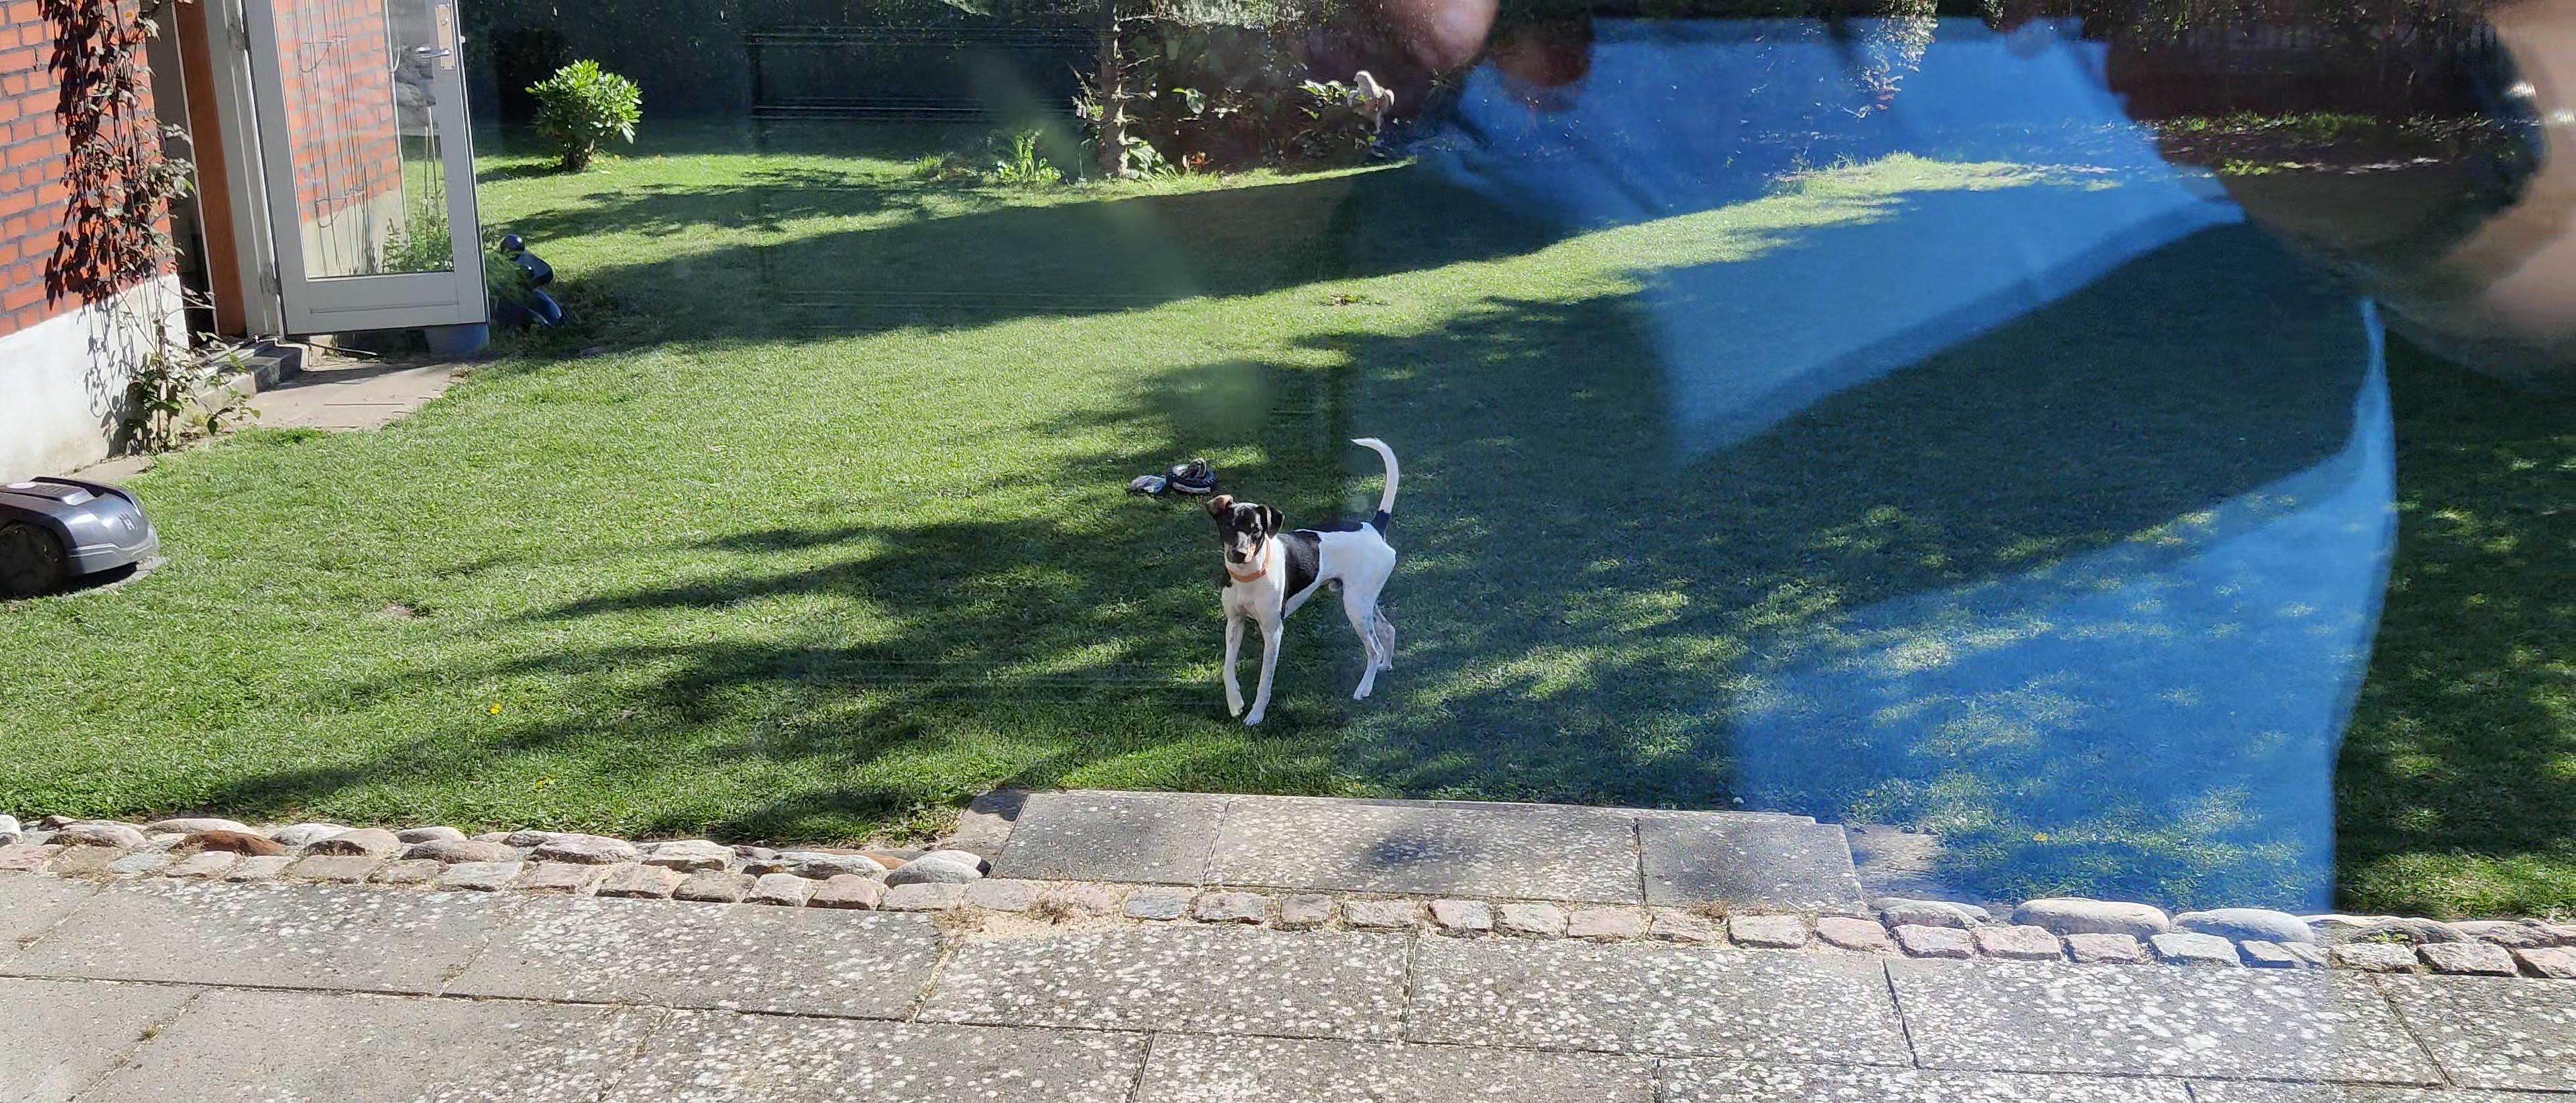Dog: (1199, 431, 1413, 730)
